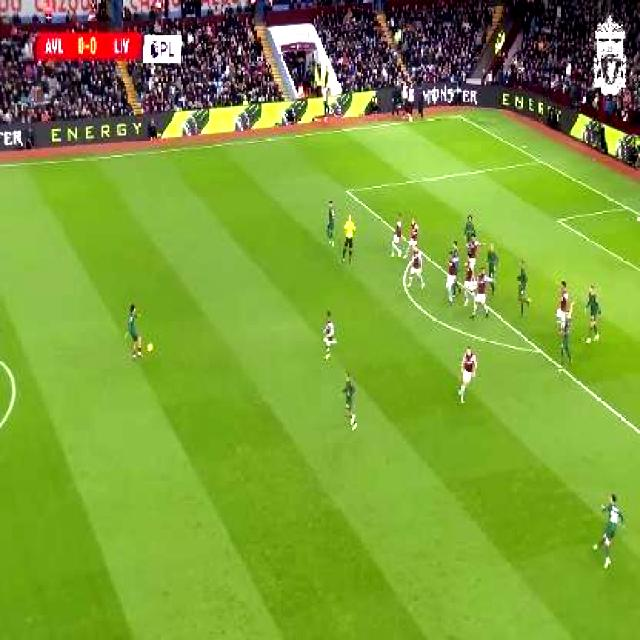bigarea_top_inner: (343, 183, 354, 200)
bigarea_top_outter: (537, 157, 545, 166)
bottom_arc_area_intersection: (532, 341, 543, 357)
corner: (452, 112, 462, 119)
smallarea_top_inner: (552, 212, 563, 226)
smallarea_top_outter: (622, 202, 630, 212)
